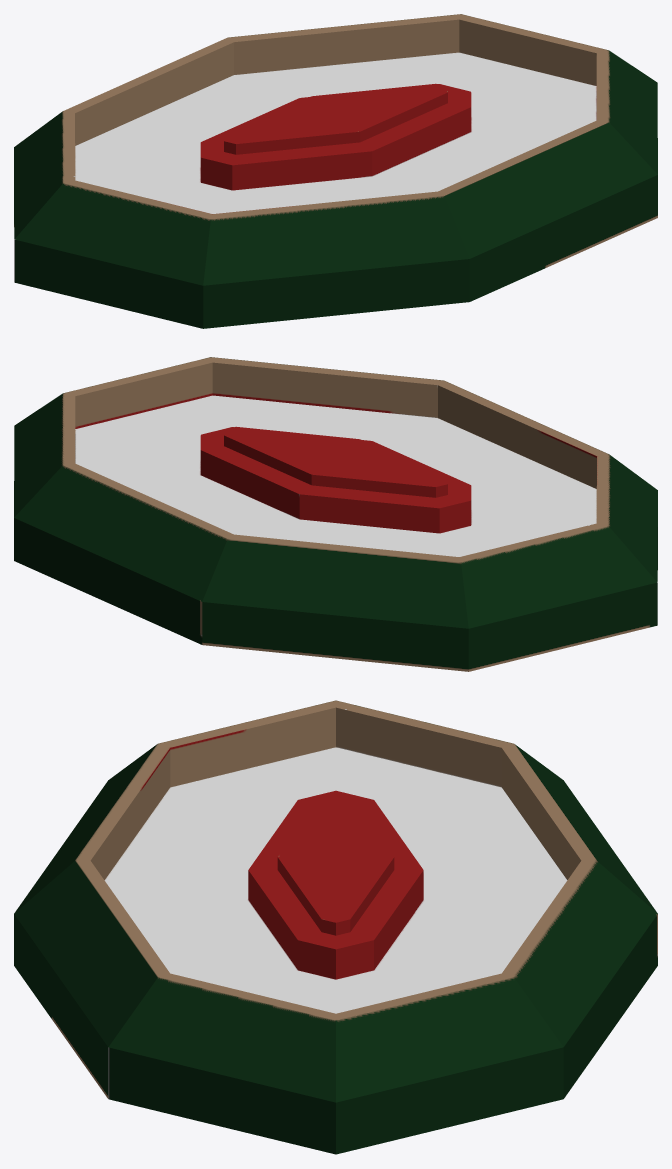
File: WallEye.glb
3 renders of one model, top to bottom at view 1: azimuth 30°, elevation 25°; view 2: azimuth 150°, elevation 25°; view 3: azimuth 270°, elevation 25°, orthographic. The views are drawn at different scales.
Visible parts, largest first — view 1: Cylinder; view 2: Cylinder; view 3: Cylinder.
Boxes of the visible parts, box(x1,y1,x2,y2) form: Cylinder: box(14, 14, 657, 328); Cylinder: box(14, 357, 657, 671); Cylinder: box(14, 700, 657, 1154).
Bounding box in the file's own units: 2.78 × 0.372 × 2.
Materials: 1 (1 with a texture image).
